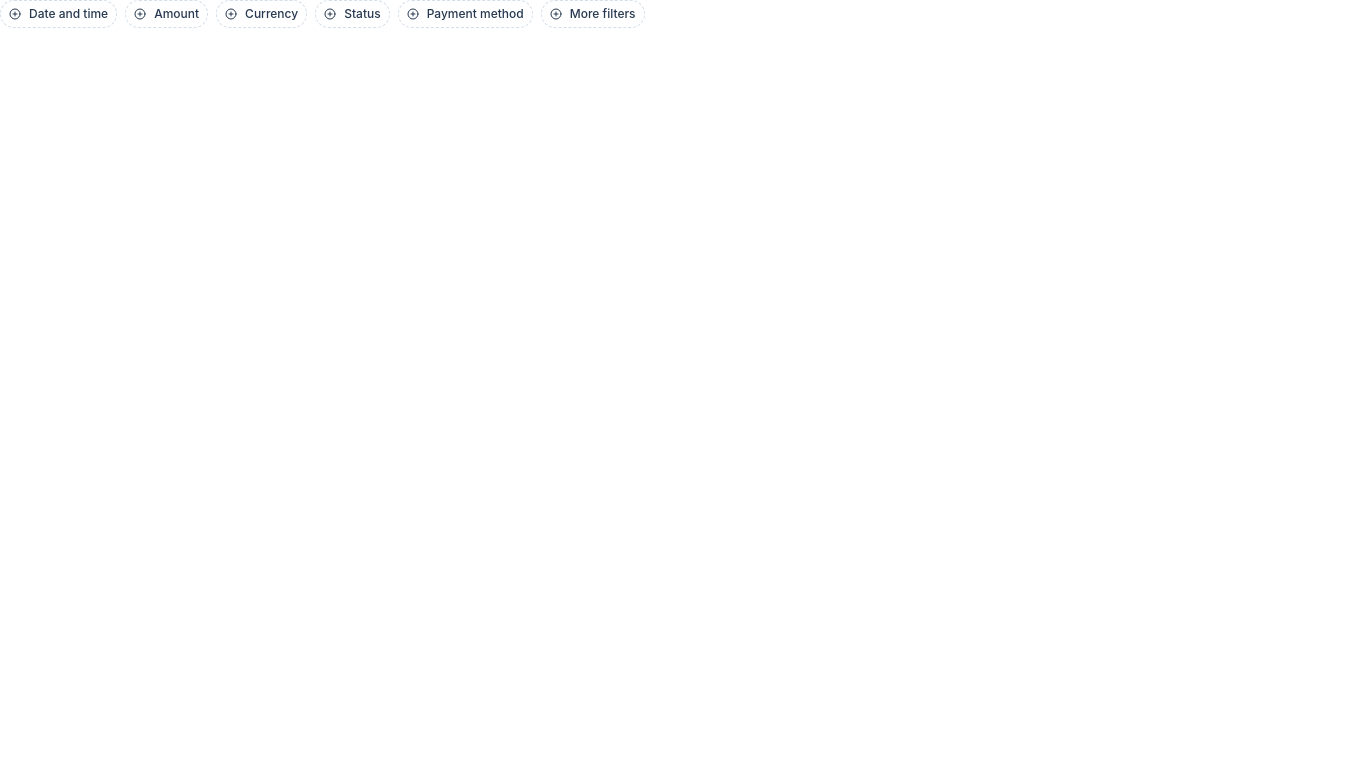
Test case: FilterBar › more filters popover is titled Search payments and labelled by it
Click the button "More filters": (593, 14) [541,0,645,28]
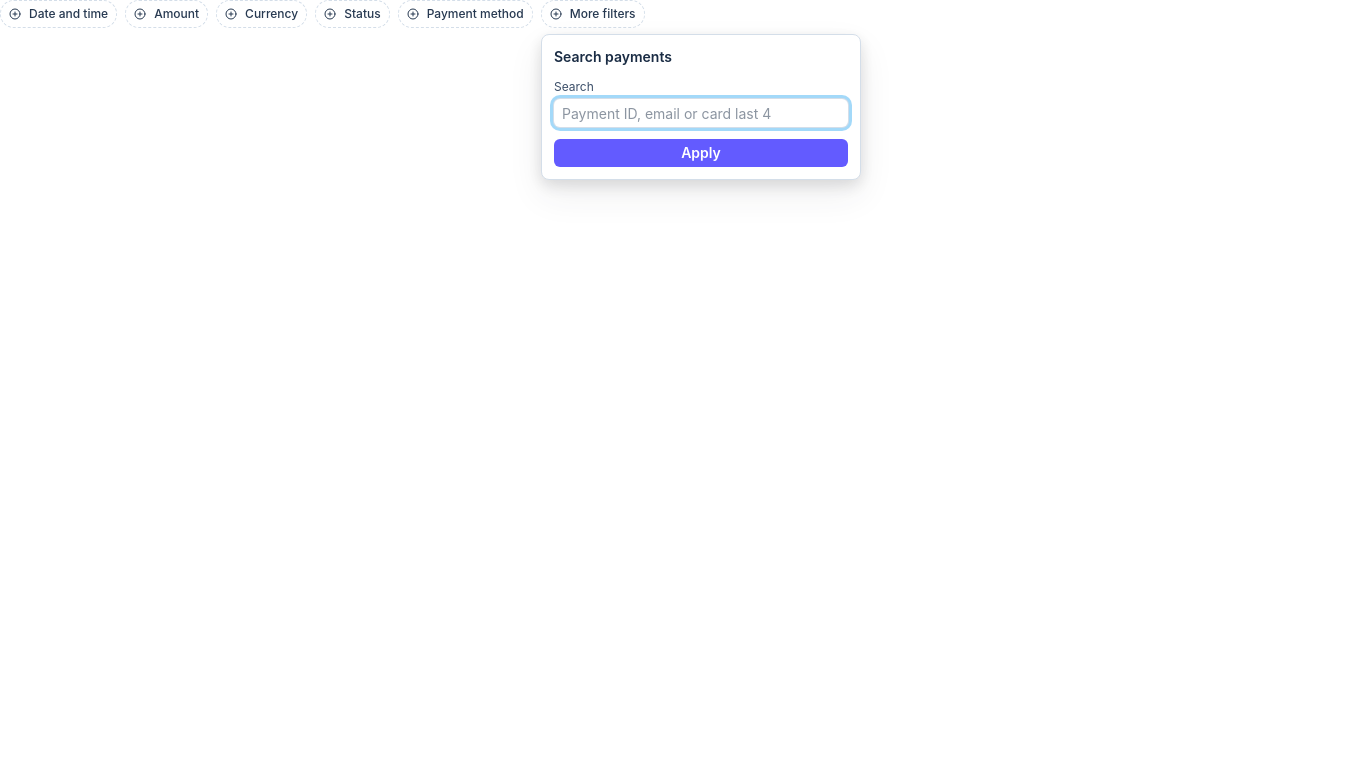
Now the heading "Search payments" is shown, box [554,48,672,65]
Now the dialog "Search payments" is shown, box [541,34,861,180]
